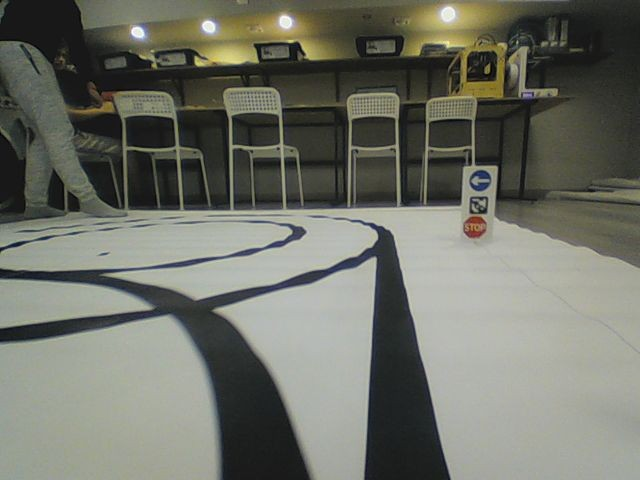Stop: (462, 215, 488, 239)
